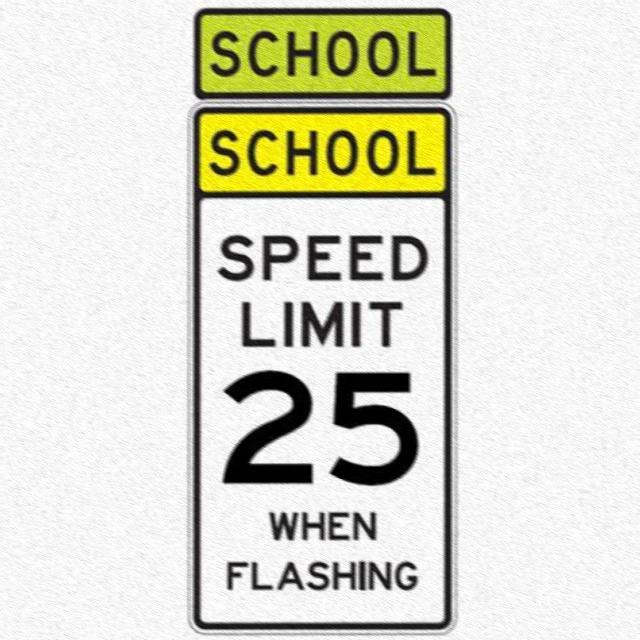speedLimit25: (194, 194, 448, 623)
